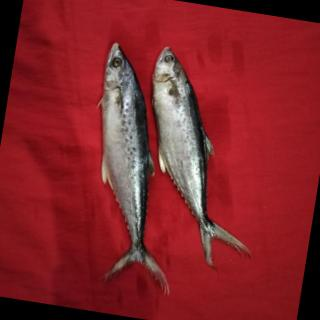Ikan: (65, 33, 289, 320)
